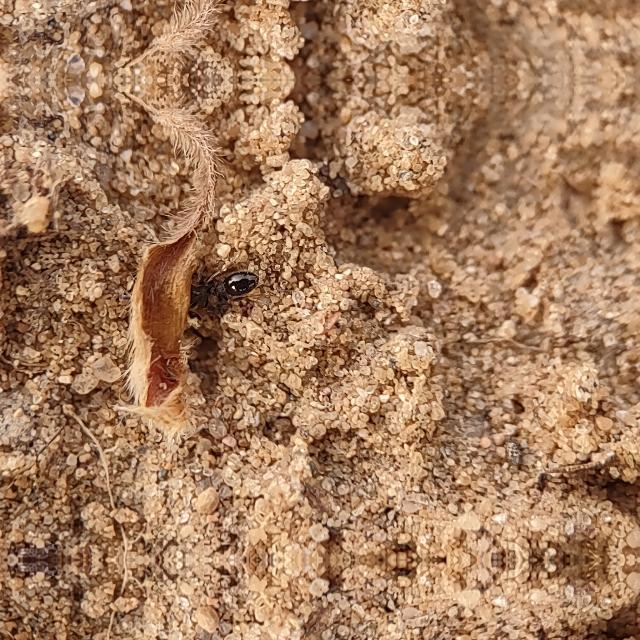Tetramorium: (162, 252, 268, 328)
